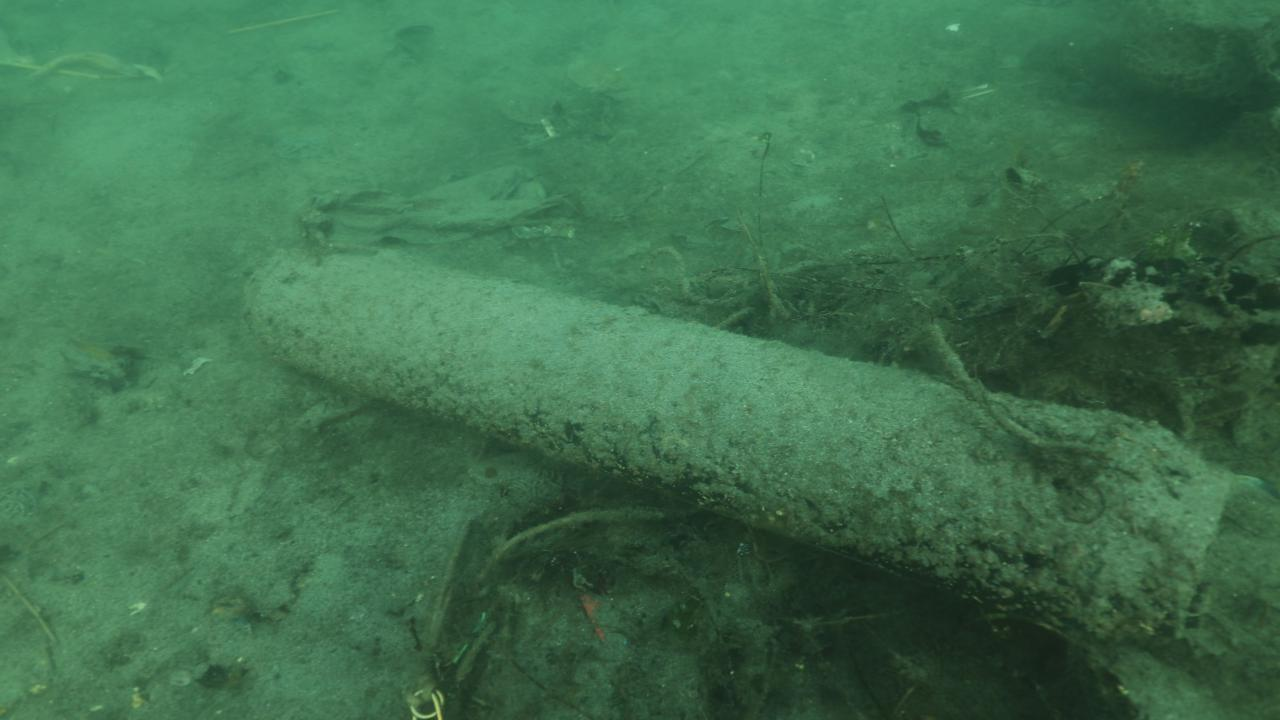eel fish trap: (241, 241, 1265, 655)
